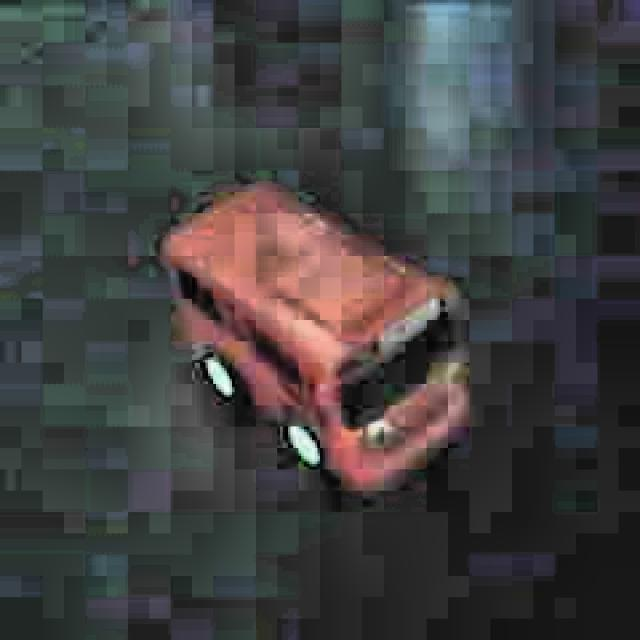bus: (152, 168, 479, 508)
